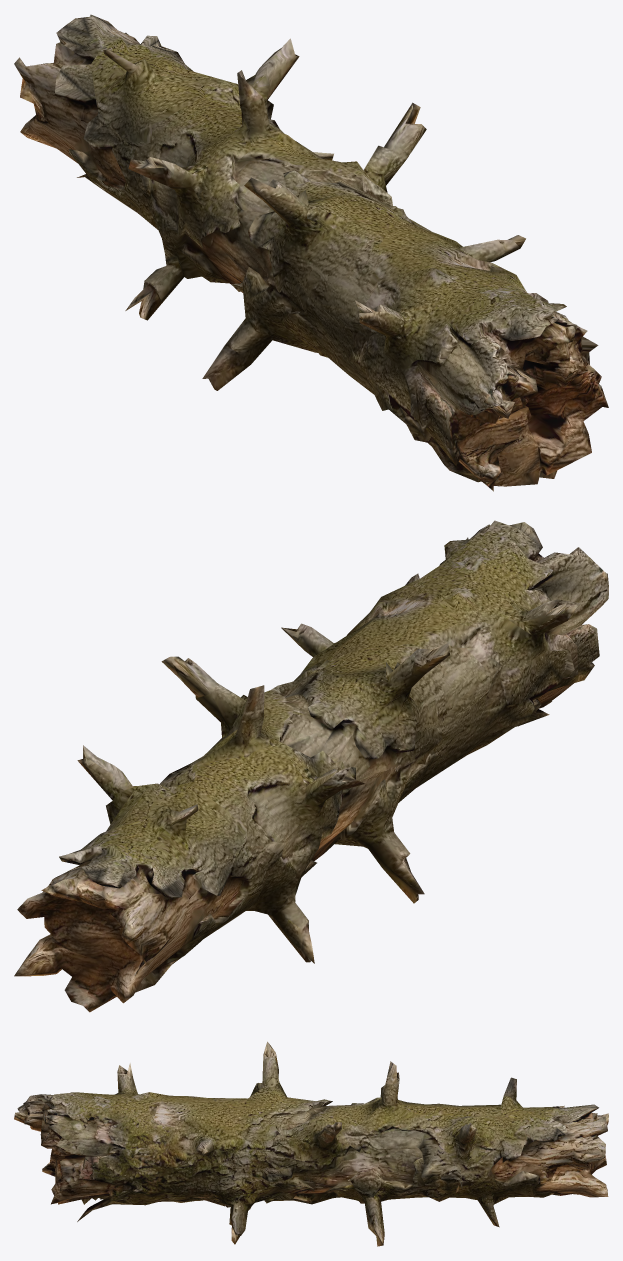
Rendered from tronco.glb.
3 renders of one model, top to bottom at view 1: azimuth 30°, elevation 25°; view 2: azimuth 150°, elevation 25°; view 3: azimuth 270°, elevation 25°, orthographic. The views are drawn at different scales.
Parts seen in each view (by area): view 1: tripo_node_b0eb9d7f-7c0d-4671-a2bf-e57ff4cdf000; view 2: tripo_node_b0eb9d7f-7c0d-4671-a2bf-e57ff4cdf000; view 3: tripo_node_b0eb9d7f-7c0d-4671-a2bf-e57ff4cdf000.
Boxes of the visible parts, box(x1,y1,x2,y2) form: tripo_node_b0eb9d7f-7c0d-4671-a2bf-e57ff4cdf000: box(14, 14, 608, 491); tripo_node_b0eb9d7f-7c0d-4671-a2bf-e57ff4cdf000: box(14, 520, 608, 1012); tripo_node_b0eb9d7f-7c0d-4671-a2bf-e57ff4cdf000: box(14, 1041, 608, 1246).
Bounding box in the file's own units: 0.2972 × 0.2817 × 1.
Materials: 1 (1 with a texture image).
